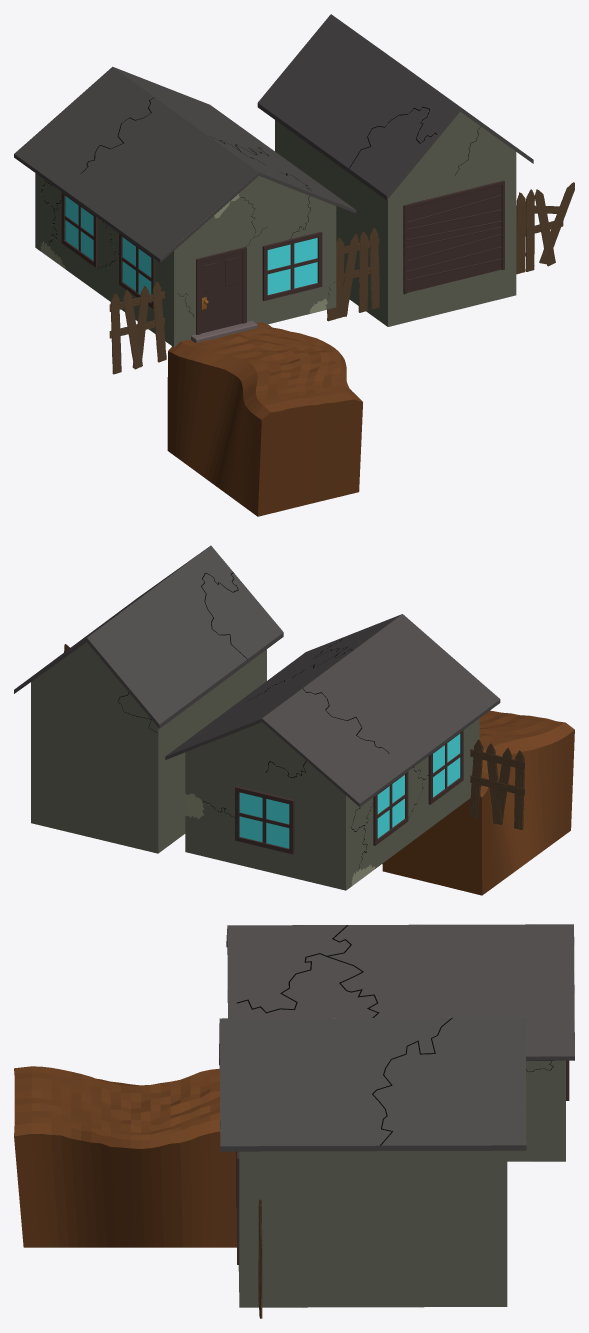
The model's file is kennyshouse_compressed.glb.
The picture shows the model from 3 angles, top to bottom: view 1: azimuth 30°, elevation 25°; view 2: azimuth 150°, elevation 25°; view 3: azimuth 270°, elevation 25°; orthographic projection. The views are drawn at different scales.
Parts seen in each view (by area): view 1: Cube.353, Cube.385, Cube.354, Cube.365; view 2: Cube.353, Cube.385, Cube.354, Cube.365; view 3: Cube.353, Cube.385, Cube.354, Cube.365.
Boxes of the visible parts, bbox=[...] form: Cube.353: bbox=[14, 14, 533, 347]; Cube.385: bbox=[167, 322, 362, 516]; Cube.354: bbox=[61, 180, 504, 334]; Cube.365: bbox=[109, 182, 574, 374]; Cube.353: bbox=[14, 545, 500, 890]; Cube.385: bbox=[382, 710, 574, 895]; Cube.354: bbox=[235, 730, 463, 854]; Cube.365: bbox=[64, 644, 524, 829]; Cube.353: bbox=[219, 924, 574, 1307]; Cube.385: bbox=[14, 1066, 236, 1247]; Cube.354: bbox=[236, 991, 569, 1264]; Cube.365: bbox=[258, 1199, 262, 1318].
Size of the model in its own units: 2.87 by 1.65 by 2.5.
